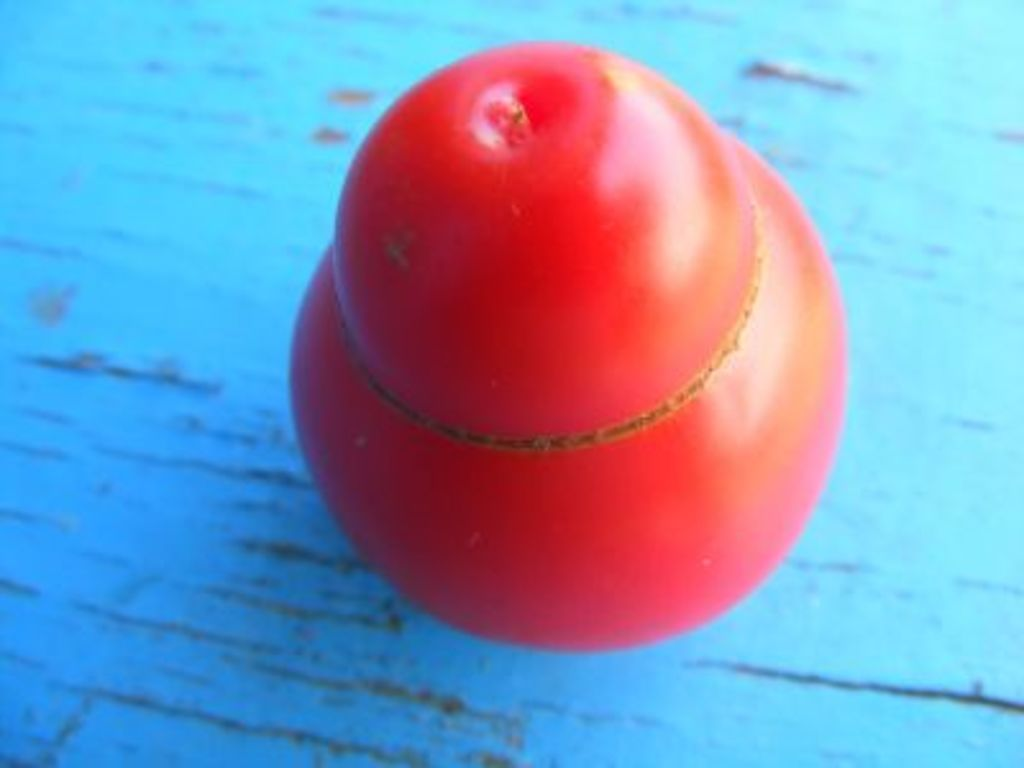Tomato: (317, 30, 824, 609)
